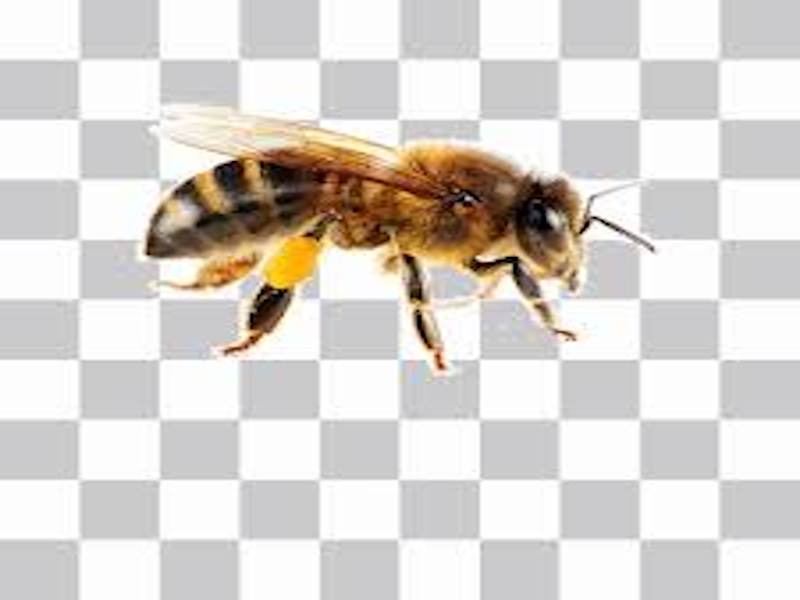abeja: (121, 92, 685, 382)
